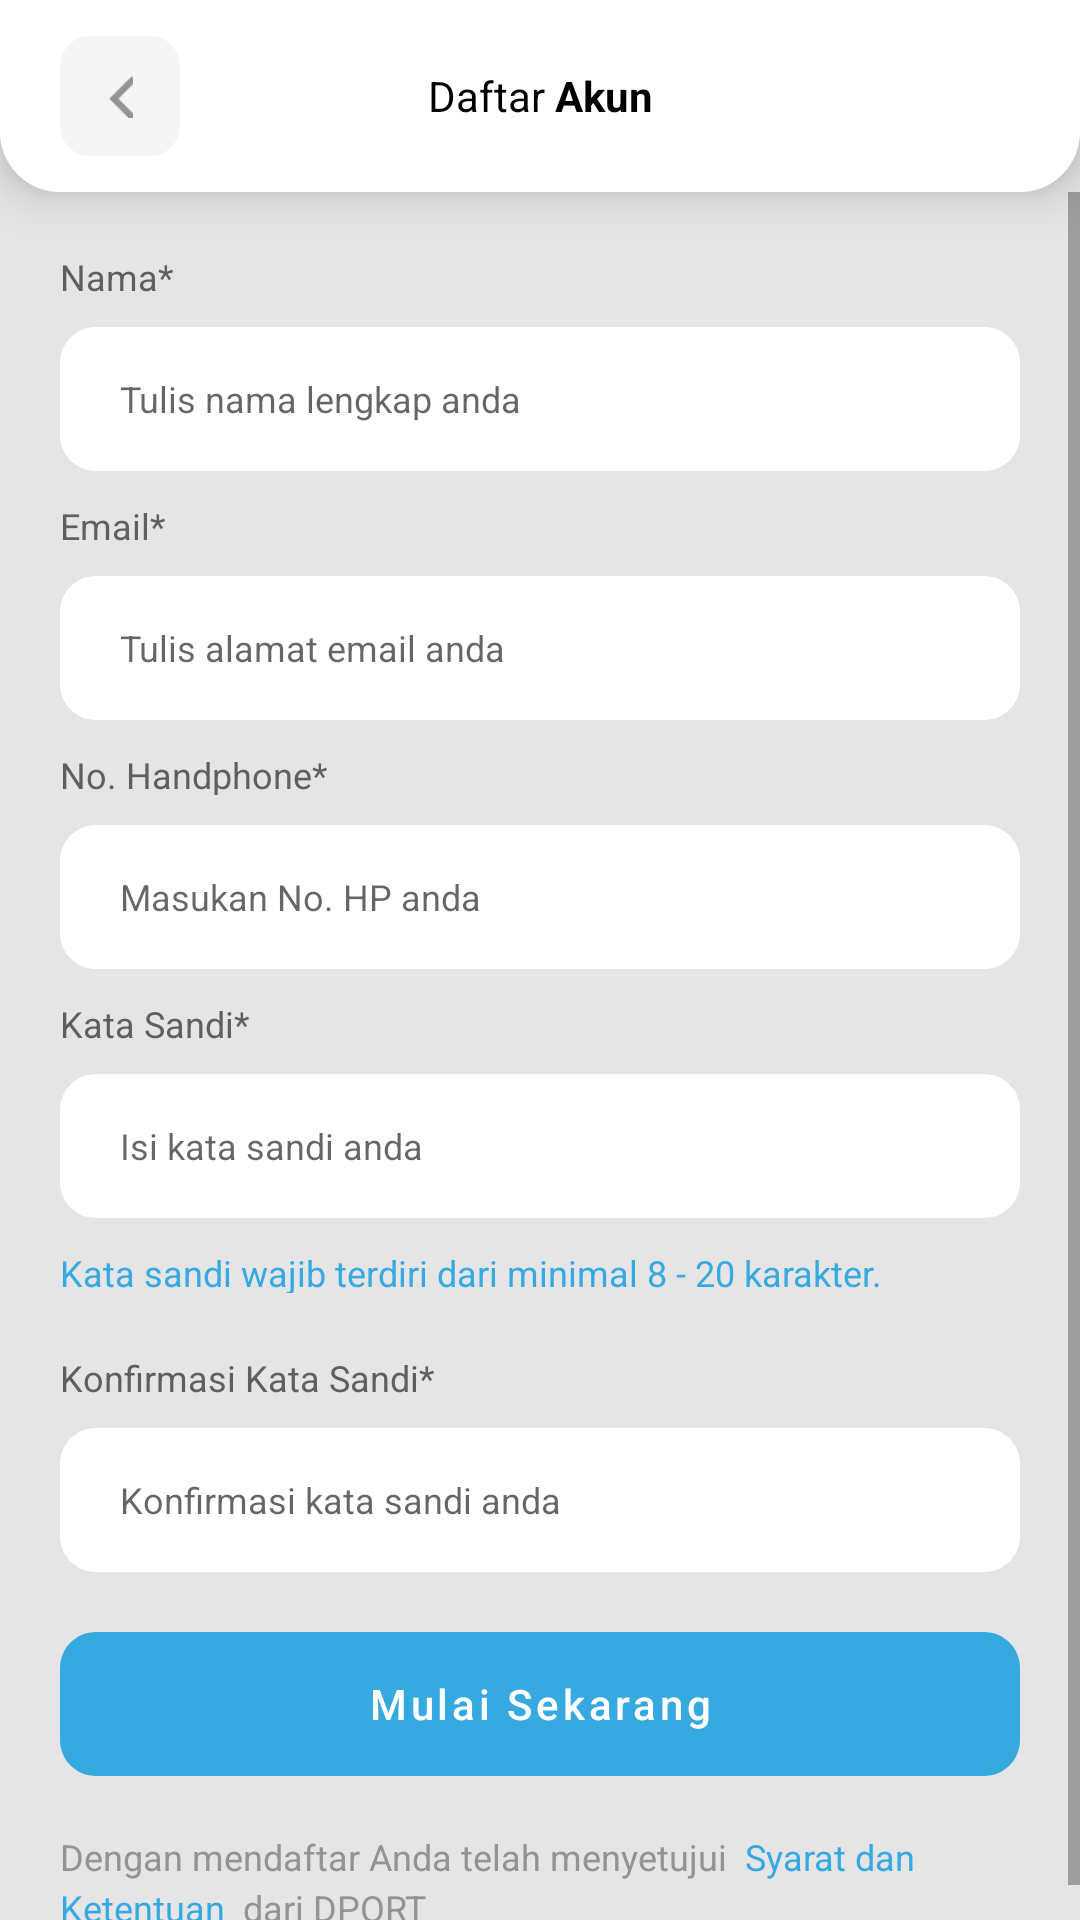

Icons on this 1080px×1920px Android screen, each with the point to tap as (x,y):
back: (121,97)
